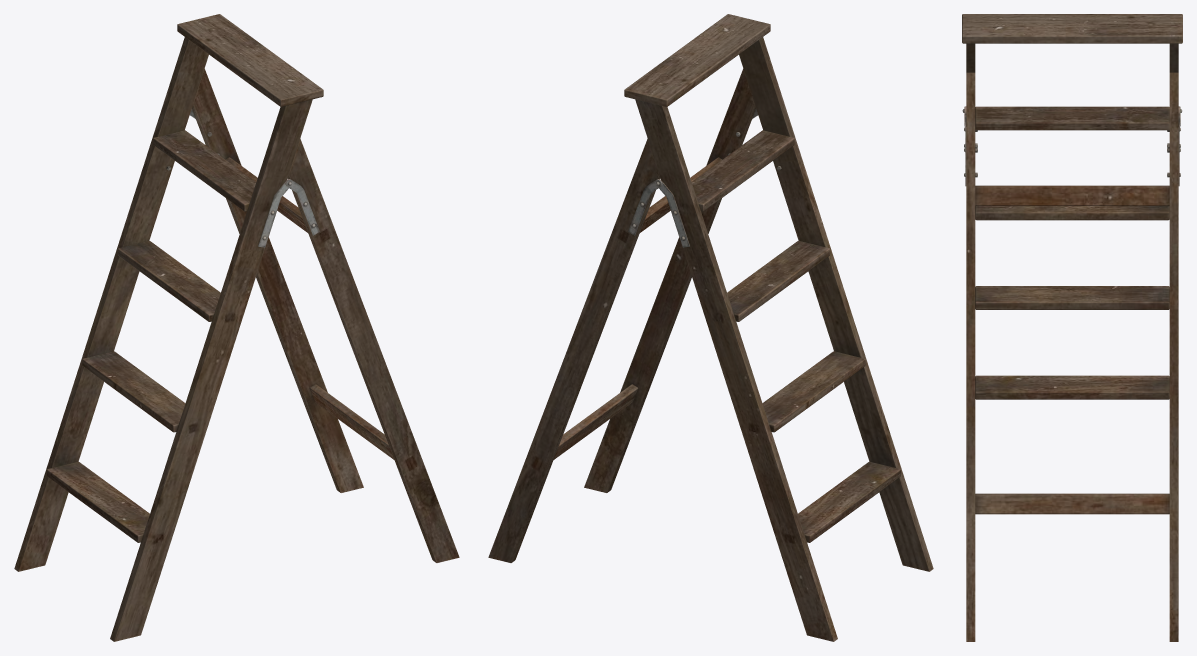
File: wooden_ladder.glb
3 views of the same model, side by side, from view 1: azimuth 30°, elevation 25°; view 2: azimuth 150°, elevation 25°; view 3: azimuth 270°, elevation 25° (orthographic). The views are drawn at different scales.
Parts seen in each view (by area): view 1: wooden_ladder_supports; view 2: wooden_ladder_supports; view 3: wooden_ladder_supports.
Boxes of the visible parts, <box> form: wooden_ladder_supports: <box>14,14,459,641</box>; wooden_ladder_supports: <box>488,14,933,641</box>; wooden_ladder_supports: <box>962,14,1182,641</box>.
Bounding box in the file's own units: 0.9592 × 1.33 × 0.5.
Materials: 1 (1 with a texture image).
